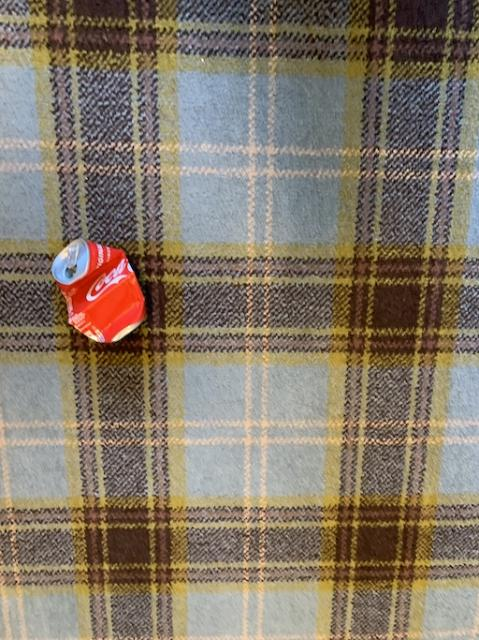metal: (51, 238, 144, 341)
